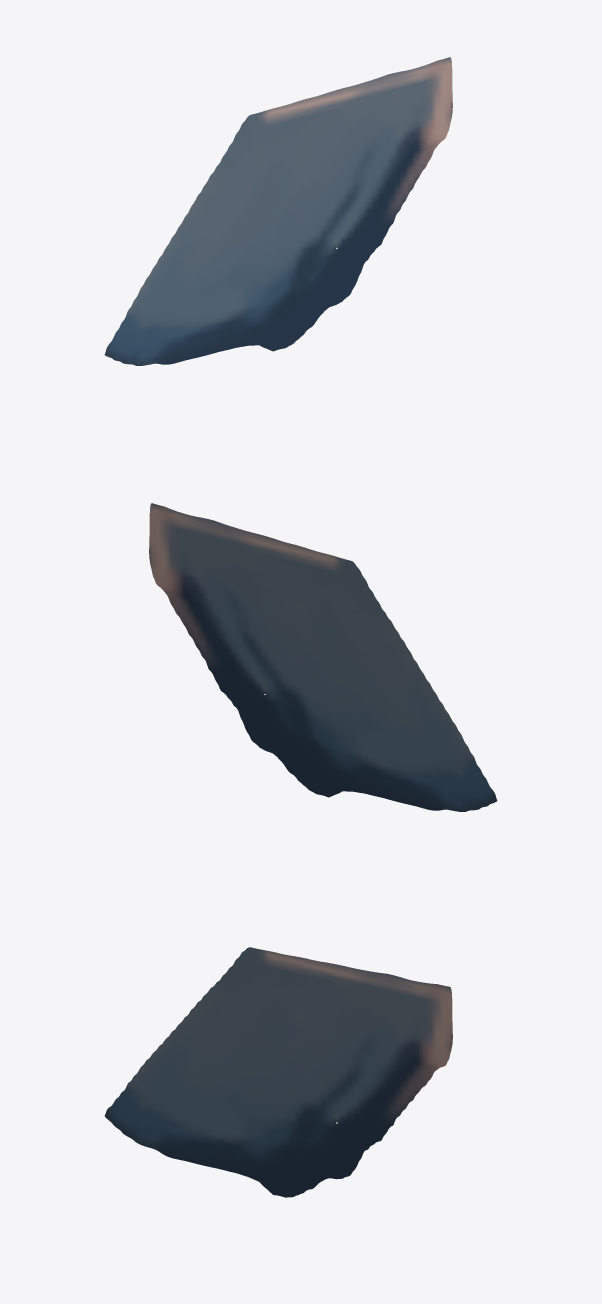
Rendered from SceneBattle03_wujian04_fbx.FBX.
3 views of the same model, one above another, from view 1: azimuth 30°, elevation 25°; view 2: azimuth 150°, elevation 25°; view 3: azimuth 330°, elevation 25° (orthographic).
Visible parts, largest first — view 1: SceneBattle03_wujian04_fbx; view 2: SceneBattle03_wujian04_fbx; view 3: SceneBattle03_wujian04_fbx.
Boxes of the visible parts, box(x1,y1,x2,y2) form: SceneBattle03_wujian04_fbx: box(104, 57, 452, 365); SceneBattle03_wujian04_fbx: box(149, 503, 497, 811); SceneBattle03_wujian04_fbx: box(104, 947, 452, 1197).
Bounding box in the file's own units: 1.89 × 1.26 × 4.74e-06.
1 material, 1 textured.
